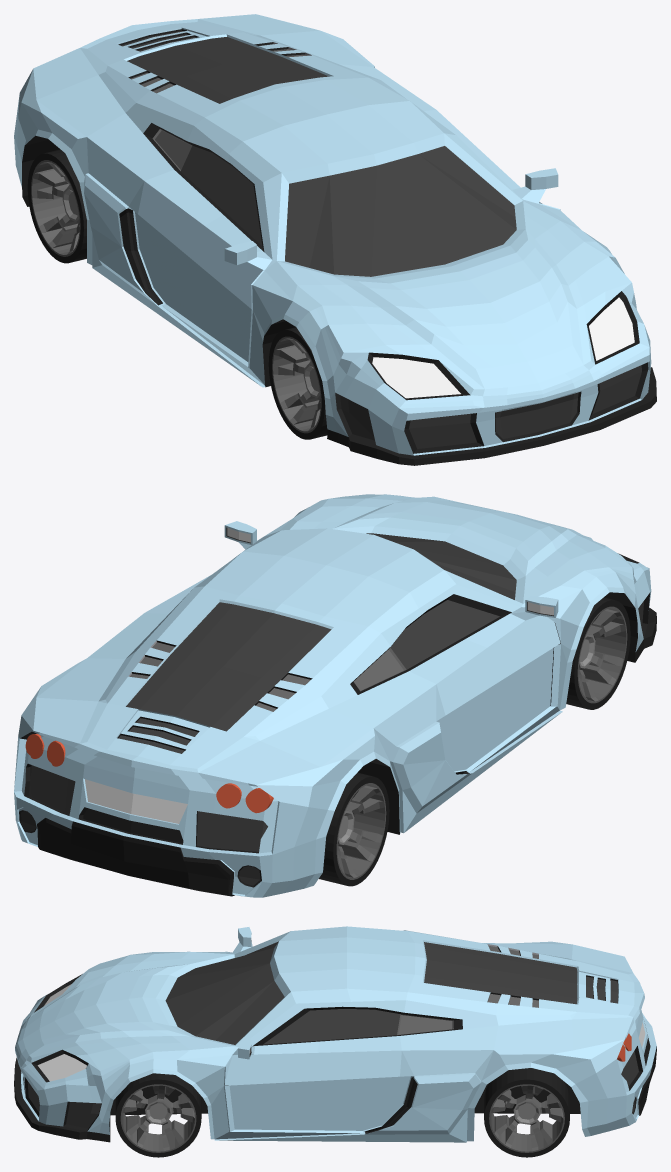
The model's file is noblem600.fbx.
3 renders of one model, top to bottom at view 1: azimuth 30°, elevation 25°; view 2: azimuth 150°, elevation 25°; view 3: azimuth 270°, elevation 25°, orthographic. The views are drawn at different scales.
Parts seen in each view (by area): view 1: BlueBody, BackRight, FrontRight; view 2: BlueBody, BackRight, FrontRight; view 3: BlueBody, BackLeft, FrontLeft.
Part boxes in pixels (<box>): BlueBody: <box>14,14,656,465</box>; BackRight: <box>27,149,86,263</box>; FrontRight: <box>268,327,327,439</box>; BlueBody: <box>14,494,656,897</box>; BackRight: <box>319,772,389,886</box>; FrontRight: <box>566,597,630,709</box>; BlueBody: <box>14,926,656,1142</box>; BackLeft: <box>484,1068,569,1157</box>; FrontLeft: <box>115,1073,201,1157</box>.
Size of the model in its own units: 1.97 by 4.34 by 1.1.
